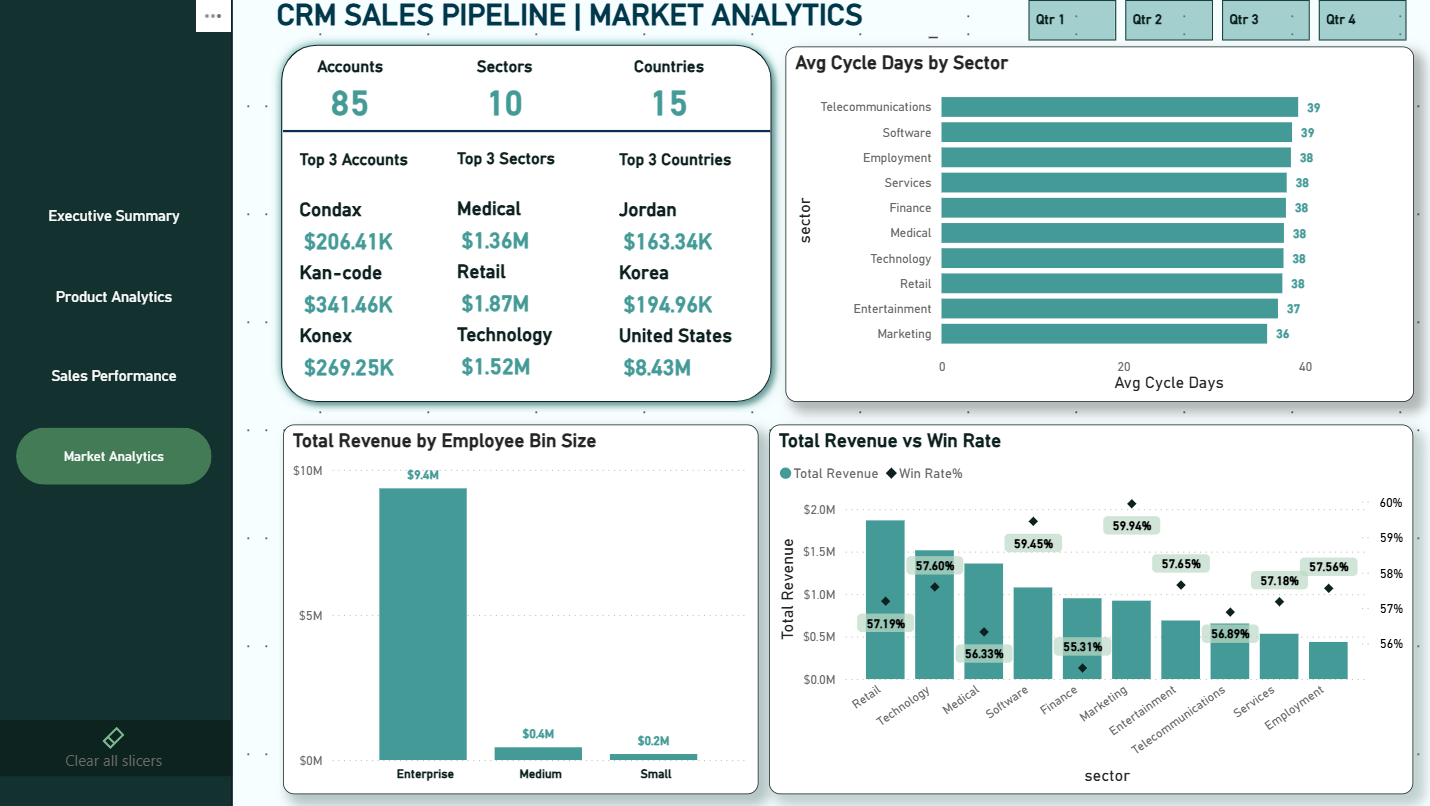

What the dashboard file says about the page in this screenshot:
{"tool":"powerbi","page":{"name":"Market Analytics","canvas":[1280,720],"ordinal":3},"visuals":[{"type":"shape","box":[0,0,211.3,719.7],"z":0,"group":"g2"},{"type":"textbox","title":"CRM SALES PIPELINE | MARKET ANALYTICS","box":[245.7,0,597.5,42],"z":1000},{"type":"pageNavigator","box":[18.3,169,174.6,267.6],"z":1000,"group":"g2"},{"type":"advancedSlicerVisual","fields":{"Values":["Calendar.Quarter"]},"box":[893.8,2.5,386.4,42],"z":2000},{"type":"group","id":"g1","title":"Group 1","box":[246,20.7,454,348.3],"z":5000},{"type":"cardVisual","title":"Accounts","fields":{"Data":["Count(accounts.account)"]},"box":[271,53,90,59],"z":6000},{"type":"cardVisual","title":"Sectors","fields":{"Data":["Count(accounts.sector)"]},"box":[408,53,90,59],"z":7000},{"type":"shape","box":[246,33.3,454,335.7],"z":8000,"group":"g1"},{"type":"cardVisual","title":"Countries","fields":{"Data":["Count(accounts.office_location)"]},"box":[482,53,233,59],"z":8000},{"type":"cardVisual","title":"Top 3 Sectors","fields":{"Data":["sales_pipeline.Total Revenue"],"Rows":["accounts.sector"]},"box":[410.3,134.5,144.8,225.3],"z":9000},{"type":"shape","box":[256.2,20.7,433.2,195.7],"z":10000,"group":"g1"},{"type":"cardVisual","title":"Top 3 Countries","fields":{"Data":["sales_pipeline.Total Revenue"],"Rows":["accounts.office_location"]},"box":[555.2,135.6,144.8,225.3],"z":10000},{"type":"cardVisual","title":"Top 3 Accounts","fields":{"Data":["sales_pipeline.Total Revenue"],"Rows":["sales_pipeline.account"]},"box":[271.3,135.6,144.8,225.3],"z":11000},{"type":"clusteredColumnChart","title":"Total Revenue by Employee Bin  Size ","fields":{"Category":["accounts.Employee Size Group"],"Y":["sales_pipeline.Total Revenue"]},"box":[255.7,380,422.9,328.6],"z":12000},{"type":"lineStackedColumnComboChart","title":"Total Revenue vs  Win Rate","fields":{"Category":["accounts.sector"],"Y":["sales_pipeline.Total Revenue"],"Y2":["sales_pipeline.Win Rate Sync"]},"box":[688.6,380,572.9,328.6],"z":13000},{"type":"clusteredBarChart","title":"Avg Cycle Days by Sector","fields":{"Category":["accounts.sector"],"Y":["sales_pipeline.Avg Cycle Days"]},"box":[702.9,44.3,558.6,315.7],"z":14000},{"type":"group","id":"g2","title":"Group 1","box":[0,0,211.3,719.7],"z":14001},{"type":"actionButton","box":[0,643,211,50],"z":14501,"group":"g2"}]}

Visuals, with their boxes on the page's 1280x720 design canvas (x1, y1, x2, y2). These are canvas units, not pixel positions in the 1430x806 screenshot, which may show the page scaled, cropped or inside an application window:
shape: 0, 0, 211, 720
"CRM SALES PIPELINE | MARKET ANALYTICS" textbox: 246, 0, 843, 42
pageNavigator: 18, 169, 193, 437
advancedSlicerVisual - Calendar.Quarter: 894, 2, 1280, 44
"Group 1" group: 246, 21, 700, 369
"Accounts" cardVisual: 271, 53, 361, 112
"Sectors" cardVisual: 408, 53, 498, 112
shape: 246, 33, 700, 369
"Countries" cardVisual: 482, 53, 715, 112
"Top 3 Sectors" cardVisual: 410, 134, 555, 360
shape: 256, 21, 689, 216
"Top 3 Countries" cardVisual: 555, 136, 700, 361
"Top 3 Accounts" cardVisual: 271, 136, 416, 361
"Total Revenue by Employee Bin  Size " clusteredColumnChart: 256, 380, 679, 709
"Total Revenue vs  Win Rate" lineStackedColumnComboChart: 689, 380, 1262, 709
"Avg Cycle Days by Sector" clusteredBarChart: 703, 44, 1262, 360
"Group 1" group: 0, 0, 211, 720
actionButton: 0, 643, 211, 693
